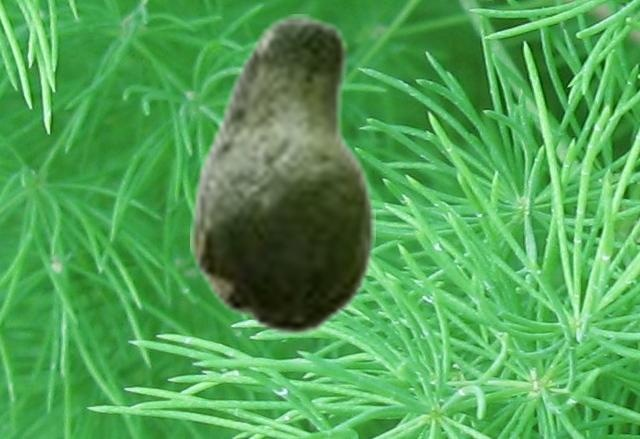sayote: (190, 14, 374, 336)
